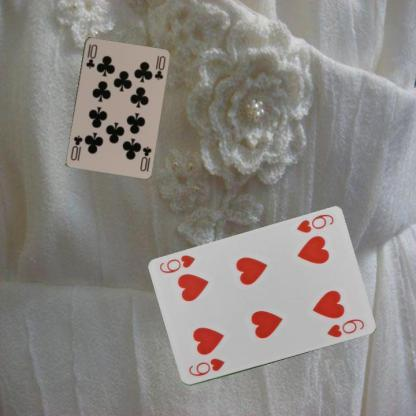10c: (83, 40, 98, 70), (138, 143, 152, 173)
6h: (294, 212, 336, 234), (185, 356, 226, 378)
